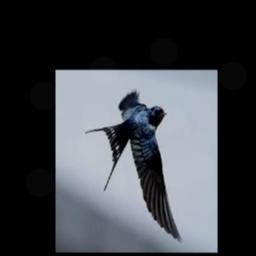Swallow: (85, 89, 182, 243)
